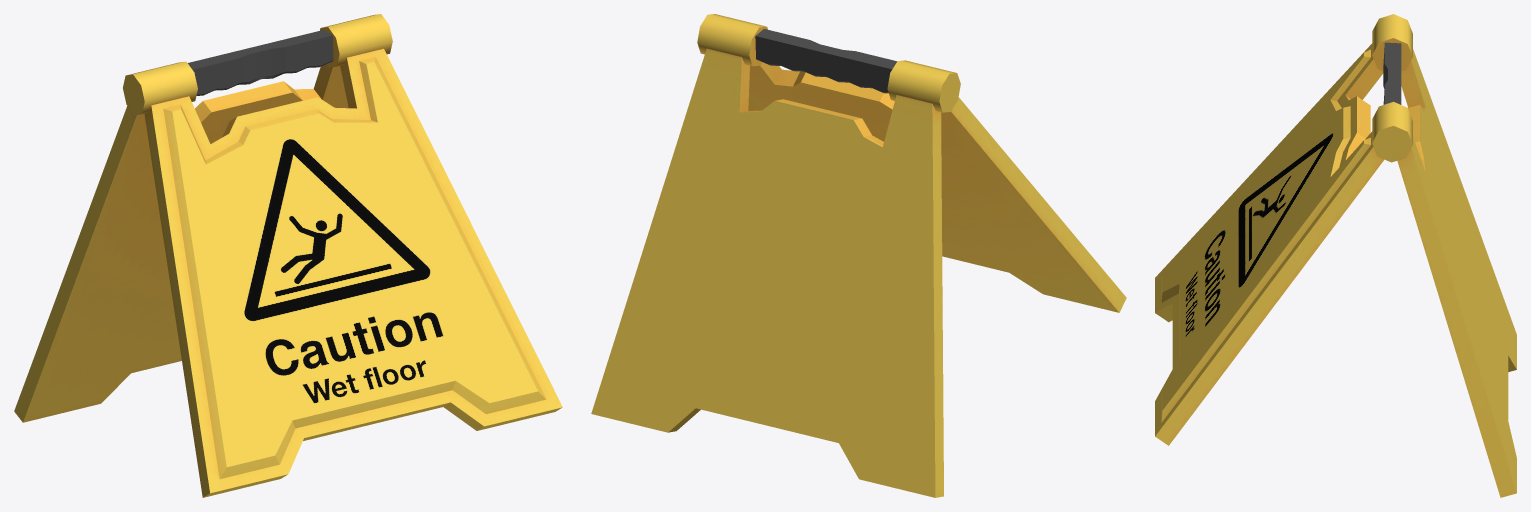
Rendered from importerSkin01_hat.fbx.
3 views of the same model, side by side, from view 1: azimuth 30°, elevation 25°; view 2: azimuth 150°, elevation 25°; view 3: azimuth 270°, elevation 25° (orthographic). The views are drawn at different scales.
Visible parts, largest first — view 1: importerSkin01_hat_geo; view 2: importerSkin01_hat_geo; view 3: importerSkin01_hat_geo.
Boxes of the visible parts, bbox=[...] form: importerSkin01_hat_geo: bbox=[14, 14, 562, 497]; importerSkin01_hat_geo: bbox=[591, 14, 1126, 497]; importerSkin01_hat_geo: bbox=[1155, 14, 1516, 497].
Bounding box in the file's own units: 2.29 × 2.35 × 2.21.
Materials: 1 (1 with a texture image).
